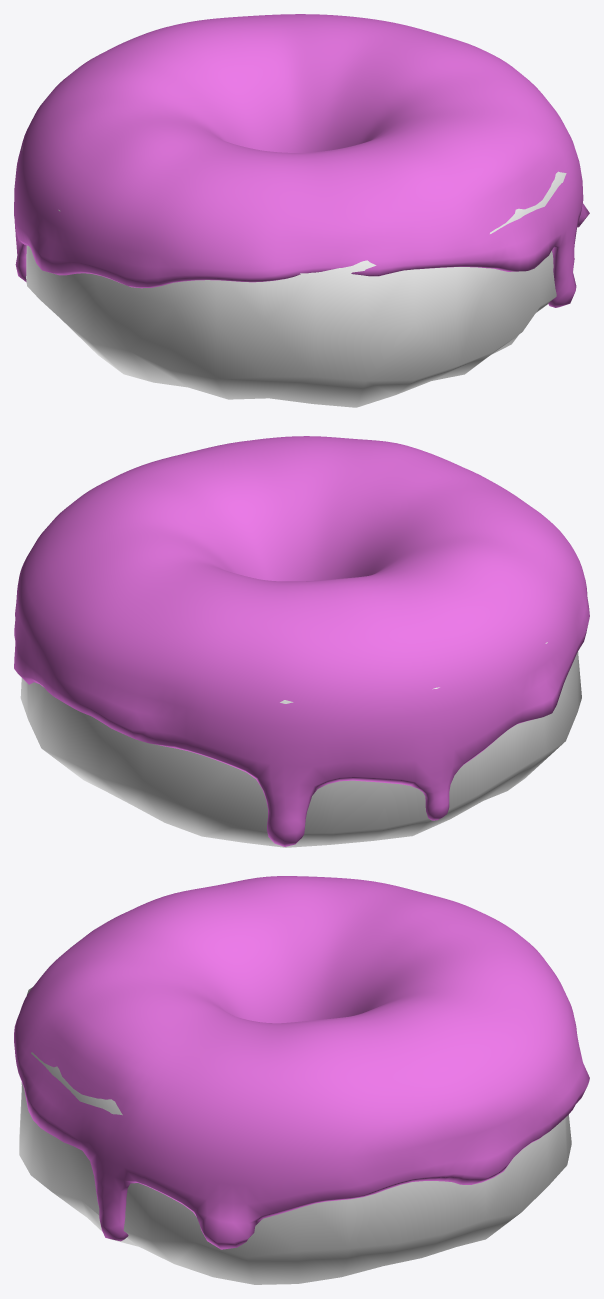
The model's file is donut.gltf.
3 views of the same model, one above another, from view 1: azimuth 30°, elevation 25°; view 2: azimuth 150°, elevation 25°; view 3: azimuth 270°, elevation 25° (orthographic). The views are drawn at different scales.
Parts seen in each view (by area): view 1: Icing, Donut; view 2: Icing, Donut; view 3: Icing, Donut.
Part boxes in pixels (x1,y1,x2,y2): Icing: [14, 14, 589, 307]; Donut: [22, 147, 566, 407]; Icing: [14, 436, 589, 846]; Donut: [20, 642, 581, 847]; Icing: [14, 876, 589, 1249]; Donut: [19, 987, 571, 1284].
Bounding box in the file's own units: 0.1025 × 0.046 × 0.0999.
